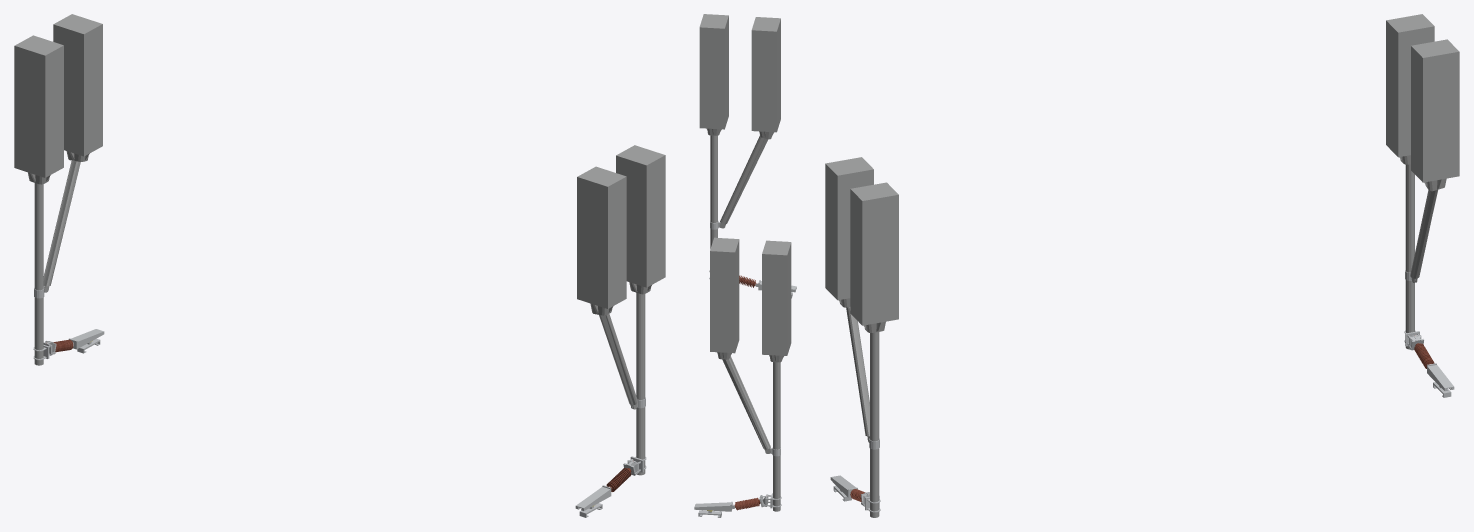
Rendered from catenary_rigid_0d_225d_h.obj.
3 renders of one model, left to right at view 1: azimuth 30°, elevation 25°; view 2: azimuth 150°, elevation 25°; view 3: azimuth 270°, elevation 25°, orthographic. The views are drawn at different scales.
Visible parts, largest first — view 1: 1.001, 1.002; view 2: 1.001, 1.002; view 3: 1.002, 1.001.
Part boxes in pixels (x1,y1,x2,y2): 1.001: (14,14,104,365); 1.002: (575,145,665,517); 1.001: (694,237,791,517); 1.002: (699,14,796,298); 1.002: (825,157,898,517); 1.001: (1386,14,1459,397).
Size of the model in its own units: 3.34 by 2.8 by 4.78.
2 materials, 2 textured.
